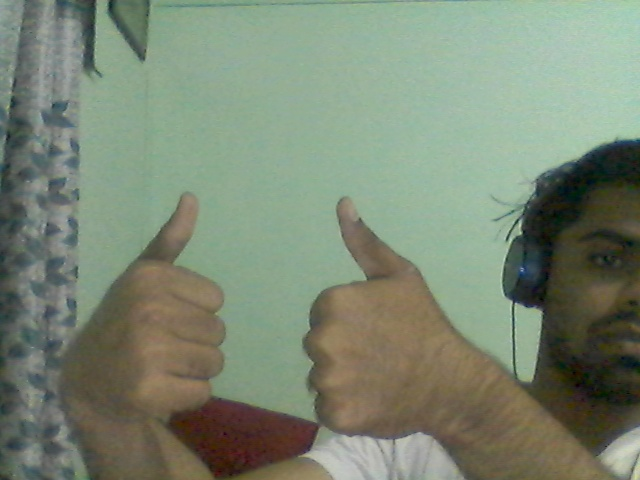Thank You: (46, 175, 517, 466)
